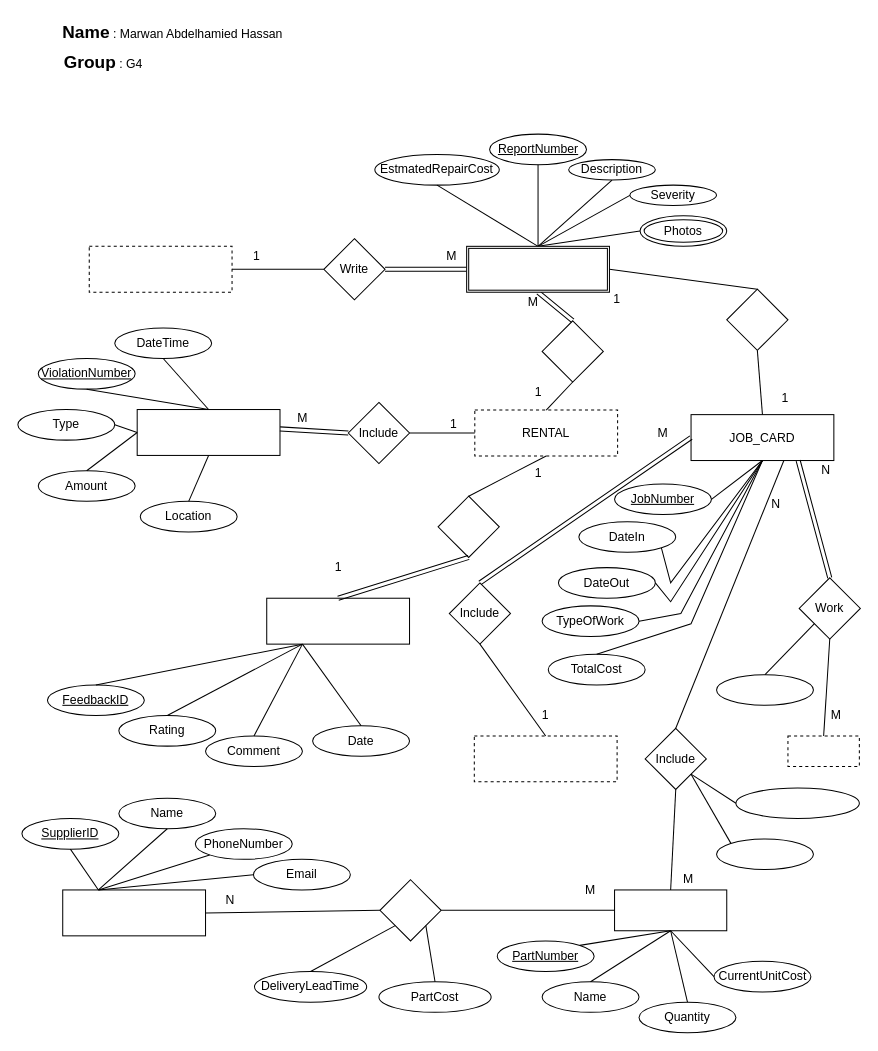
Image size: 878x1051. Some labels were removed from this diagram. Each missing label, with the box of its shape:
DAMAGE_REPORT: (466, 245, 609, 292)
EMPLOYEE: (88, 245, 232, 292)
FEEDBACK: (266, 597, 410, 644)
FOR: (541, 320, 603, 382)
Has: (437, 495, 499, 557)
HoursSpent: (716, 674, 813, 705)
Mechanic: (787, 735, 859, 767)
PART: (614, 889, 727, 931)
Points: (726, 288, 788, 350)
QuantityUsed: (716, 838, 813, 870)
Ship: (379, 879, 441, 941)
SUPPLIER: (62, 889, 206, 936)
UnitCostAtThatTime: (735, 787, 859, 819)
VEHICLE: (473, 735, 617, 782)
VIOLATION: (136, 409, 280, 455)
